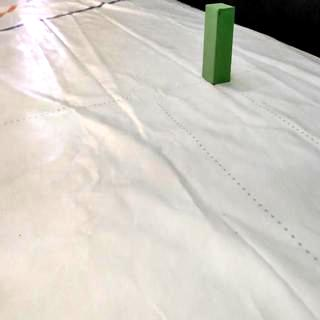greenbox: (201, 2, 235, 85)
